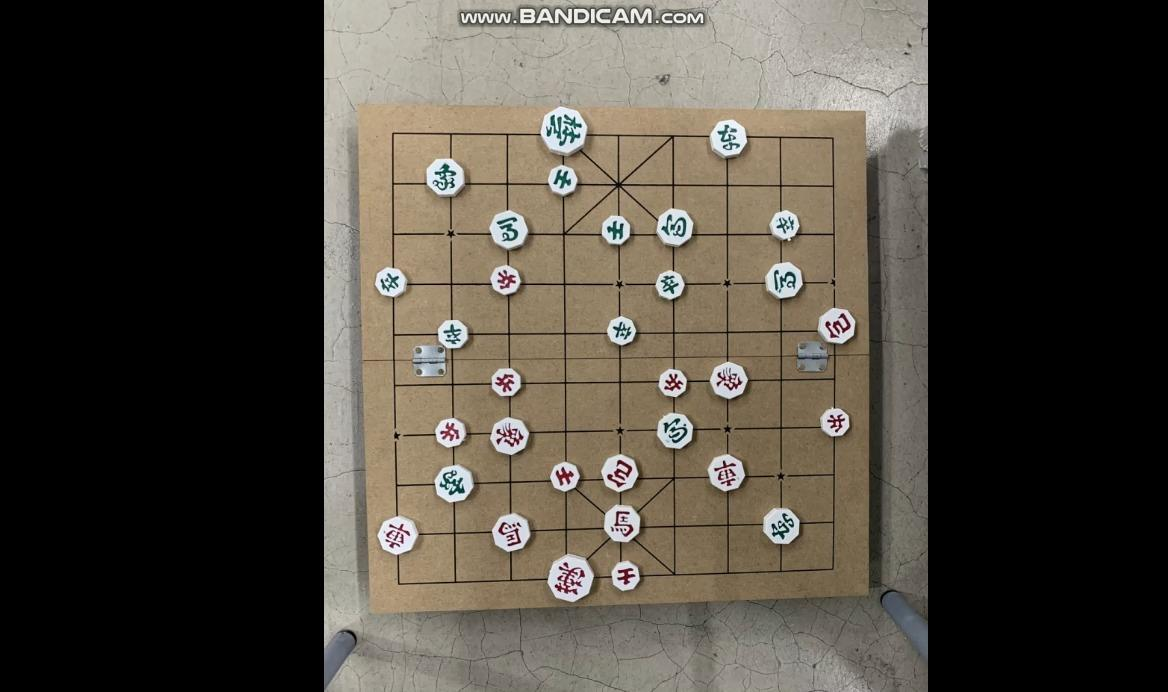cha_green: (761, 509, 800, 544), (709, 122, 747, 157)
cha_red: (376, 518, 418, 553), (708, 456, 747, 491)
jol_green: (769, 210, 803, 241), (374, 269, 408, 297), (604, 318, 639, 345), (436, 319, 470, 346), (655, 272, 686, 300)
jol_red: (488, 267, 522, 294), (490, 371, 523, 398), (434, 419, 467, 446), (819, 409, 852, 435), (657, 371, 688, 398)
ma_green: (489, 213, 529, 249), (764, 264, 804, 298)
ma_red: (604, 507, 643, 543), (490, 515, 530, 550)
po_green: (655, 413, 695, 448), (655, 211, 694, 246)
po_red: (599, 456, 640, 491), (818, 308, 858, 342)
sa_green: (547, 166, 580, 195), (600, 216, 631, 244)
sa_red: (549, 462, 580, 491), (610, 563, 642, 591)
sang_green: (425, 157, 466, 194), (433, 466, 474, 502)
sang_red: (489, 419, 530, 454), (712, 364, 750, 397)
wang_green: (541, 108, 589, 154)
wang_red: (548, 558, 593, 599)
